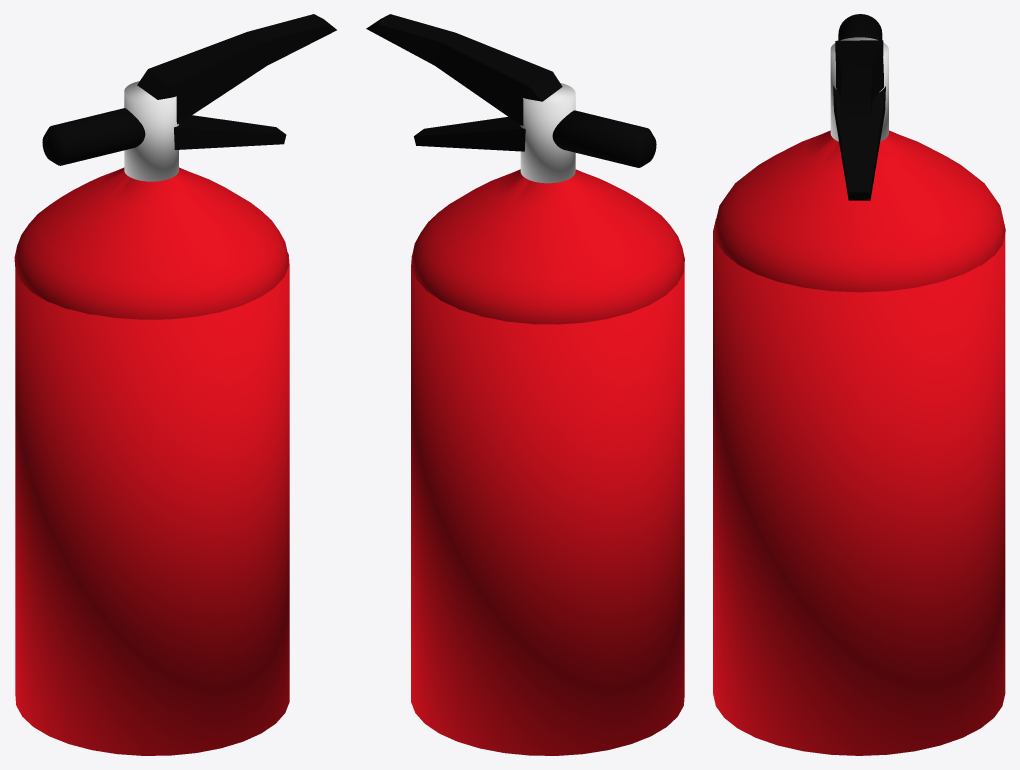
Rendered from Feuerlöscher.fbx.
The picture shows the model from 3 angles, left to right: view 1: azimuth 30°, elevation 25°; view 2: azimuth 150°, elevation 25°; view 3: azimuth 270°, elevation 25°; orthographic projection. The views are drawn at different scales.
Parts seen in each view (by area): view 1: Cylinder, Sphere, Cube.001, Cylinder.002, Cylinder.001, Cube; view 2: Cylinder, Sphere, Cube.001, Cylinder.001, Cylinder.002, Cube; view 3: Cylinder, Sphere, Cube, Cube.001, Cylinder.002, Cylinder.001.
Part boxes in pixels (<box>): Cylinder: <box>15,253,289,755</box>; Sphere: <box>14,167,288,319</box>; Cube.001: <box>137,14,336,124</box>; Cylinder.002: <box>124,81,178,181</box>; Cylinder.001: <box>42,108,145,165</box>; Cube: <box>174,115,286,149</box>; Cylinder: <box>411,256,684,755</box>; Sphere: <box>411,169,684,324</box>; Cube.001: <box>366,14,562,125</box>; Cylinder.001: <box>552,110,656,167</box>; Cylinder.002: <box>520,83,575,183</box>; Cube: <box>414,117,525,151</box>; Cylinder: <box>713,219,1005,755</box>; Sphere: <box>714,130,1005,292</box>; Cube: <box>833,86,885,200</box>; Cube.001: <box>835,40,883,114</box>; Cylinder.002: <box>830,37,888,141</box>; Cylinder.001: <box>838,14,882,40</box>.
Bounding box in the file's own units: 0.2489 × 0.513 × 0.2004.
